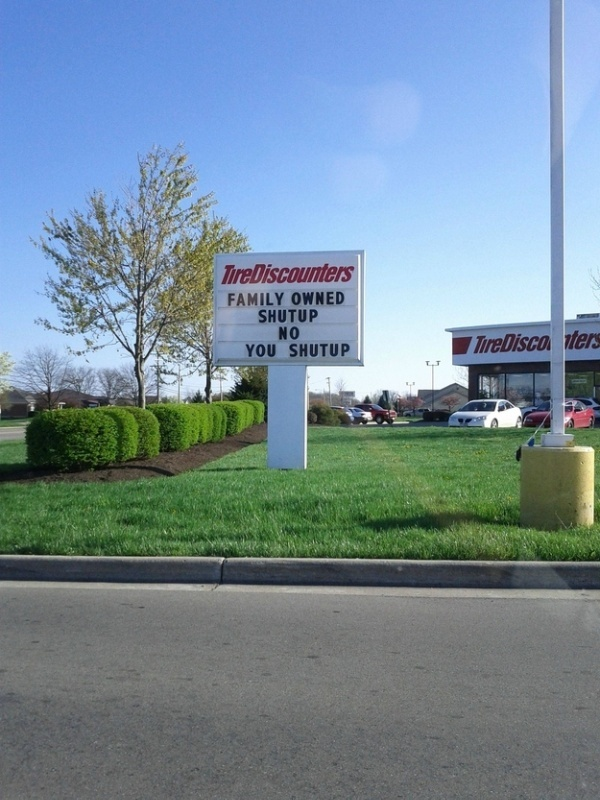text: (481, 332, 496, 355), (497, 332, 512, 355), (513, 332, 528, 355), (529, 332, 544, 355), (225, 264, 240, 286), (241, 264, 256, 286), (257, 264, 272, 286), (273, 264, 288, 286), (289, 264, 304, 286), (305, 264, 320, 286), (321, 264, 336, 286), (337, 264, 352, 286), (577, 330, 592, 351), (305, 291, 320, 307), (321, 291, 336, 307), (257, 343, 272, 359), (289, 343, 304, 359), (305, 343, 320, 359), (321, 343, 336, 359), (241, 292, 256, 307), (257, 292, 272, 307), (273, 309, 288, 324), (289, 309, 304, 324), (337, 343, 351, 359), (258, 309, 272, 324), (305, 309, 319, 324), (291, 291, 304, 307), (227, 292, 240, 307), (273, 292, 286, 307), (472, 332, 480, 355), (245, 343, 256, 359), (289, 326, 300, 341), (569, 330, 576, 351), (593, 330, 600, 351), (545, 332, 551, 355), (279, 326, 288, 341), (337, 291, 345, 307), (220, 264, 224, 286), (353, 264, 356, 286), (273, 343, 277, 359)
